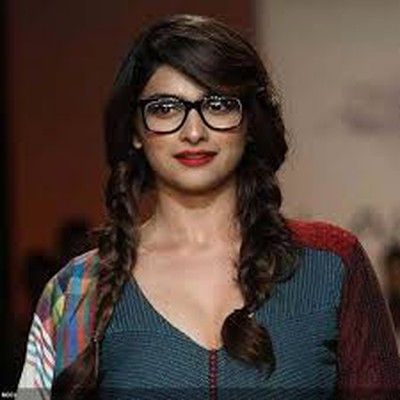eywear: (143, 76, 264, 141)
